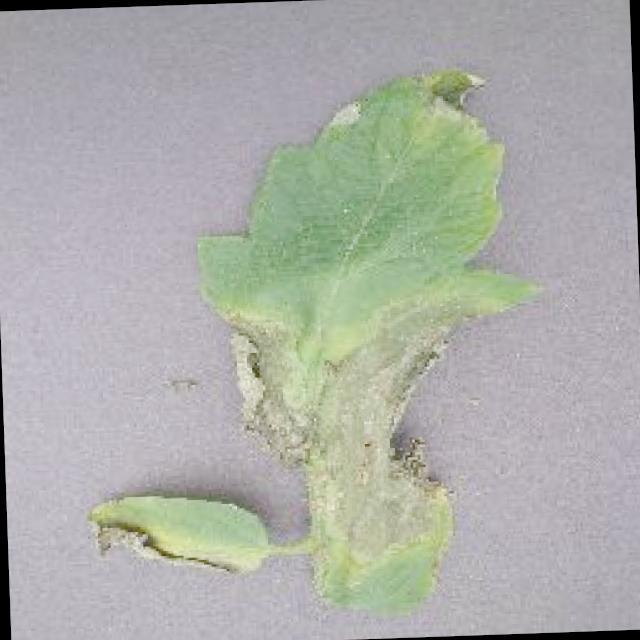Tomato late blight leaf: (191, 51, 555, 618), (80, 484, 268, 584)
